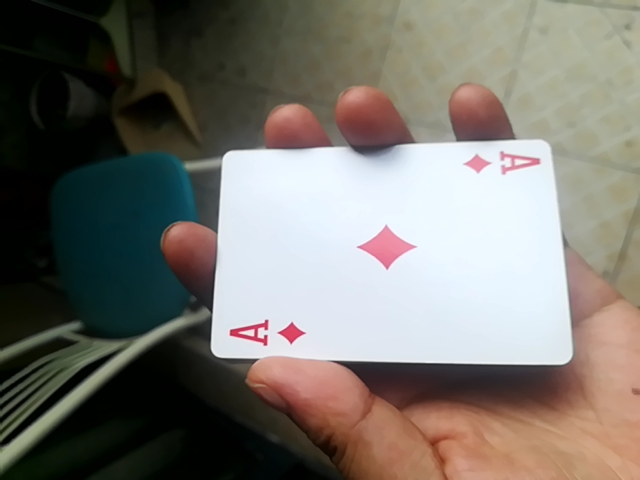fk a: (198, 137, 576, 363)
